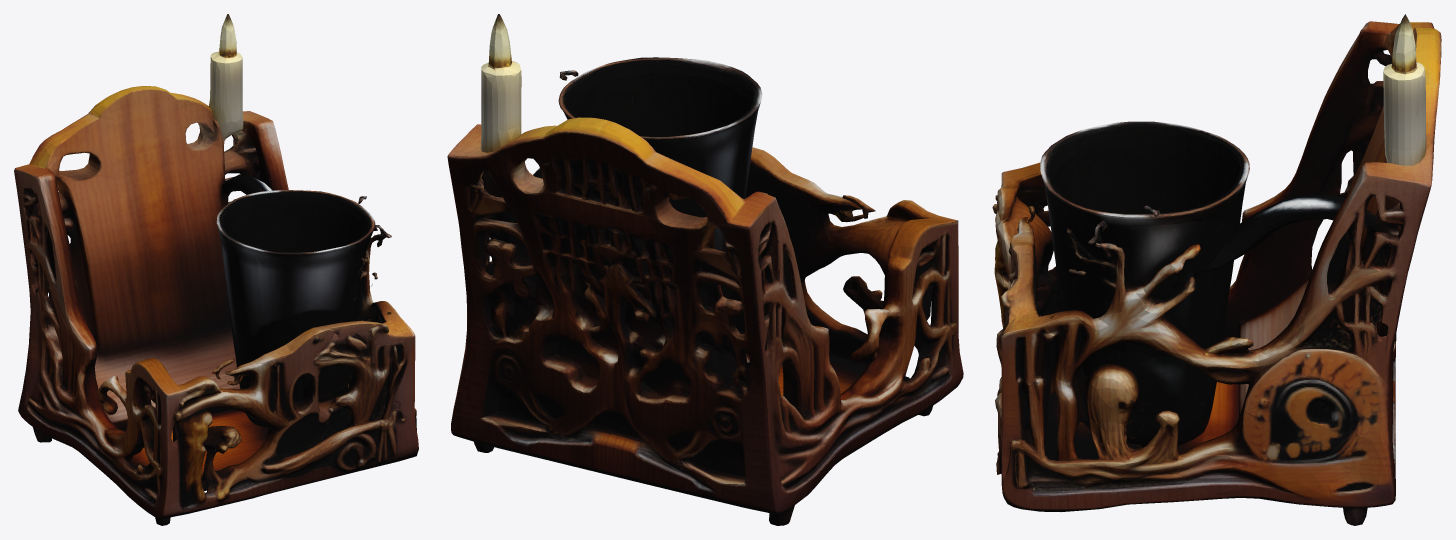
The model's file is wooden-coffee-mug-holder-horror.jpeg.glb.
3 views of the same model, side by side, from view 1: azimuth 30°, elevation 25°; view 2: azimuth 150°, elevation 25°; view 3: azimuth 270°, elevation 25° (orthographic). The views are drawn at different scales.
Visible parts, largest first — view 1: world; view 2: world; view 3: world.
Part boxes in pixels (<box>): world: <box>14,14,418,525</box>; world: <box>447,14,963,525</box>; world: <box>992,14,1441,525</box>.
Size of the model in its own units: 0.7587 by 1 by 0.8339.
Materials: 1 (1 with a texture image).
